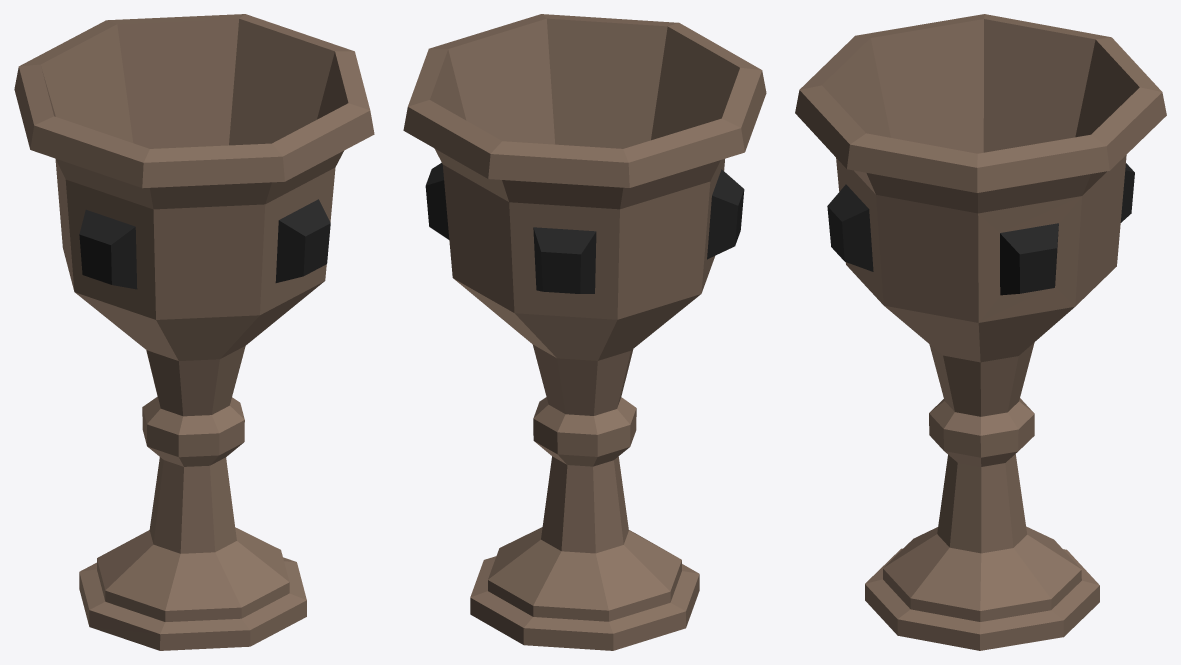
File: SM_Item_Chalice_01.glb
3 views of the same model, side by side, from view 1: azimuth 30°, elevation 25°; view 2: azimuth 150°, elevation 25°; view 3: azimuth 270°, elevation 25° (orthographic).
Visible parts, largest first — view 1: SM_Item_Chalice_01_00; view 2: SM_Item_Chalice_01_00; view 3: SM_Item_Chalice_01_00.
Boxes of the visible parts, x1,y1,x2,y2 form: SM_Item_Chalice_01_00: [14, 14, 374, 650]; SM_Item_Chalice_01_00: [403, 14, 766, 650]; SM_Item_Chalice_01_00: [795, 14, 1166, 650].
Bounding box in the file's own units: 0.1949 × 0.2981 × 0.1949.
Materials: 1 (1 with a texture image).
